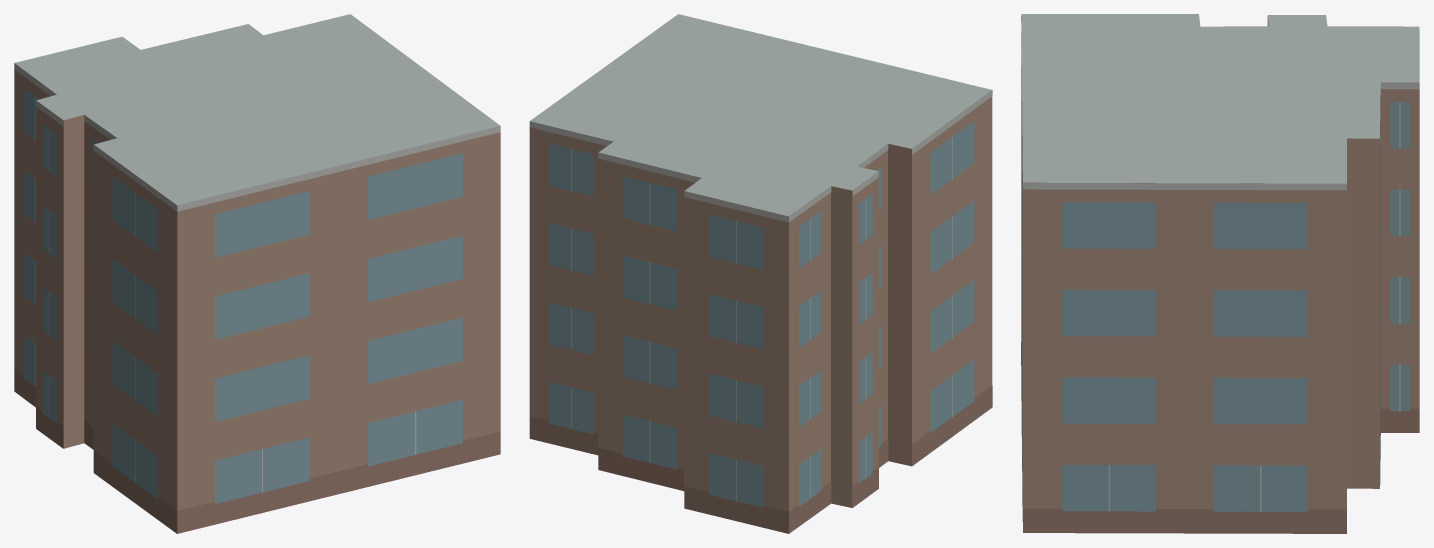
Rendered from survey-upis-32907835.glb.
The picture shows the model from 3 angles, left to right: view 1: azimuth 30°, elevation 25°; view 2: azimuth 150°, elevation 25°; view 3: azimuth 270°, elevation 25°; orthographic projection. The views are drawn at different scales.
Parts seen in each view (by area): view 1: survey-upis-32907835.tmp; view 2: survey-upis-32907835.tmp; view 3: survey-upis-32907835.tmp.
Boxes of the visible parts, x1,y1,x2,y2 form: survey-upis-32907835.tmp: (14,14,500,533); survey-upis-32907835.tmp: (529,14,992,533); survey-upis-32907835.tmp: (1021,14,1419,533).
Size of the model in its own units: 13.21 by 12.7 by 13.11.
